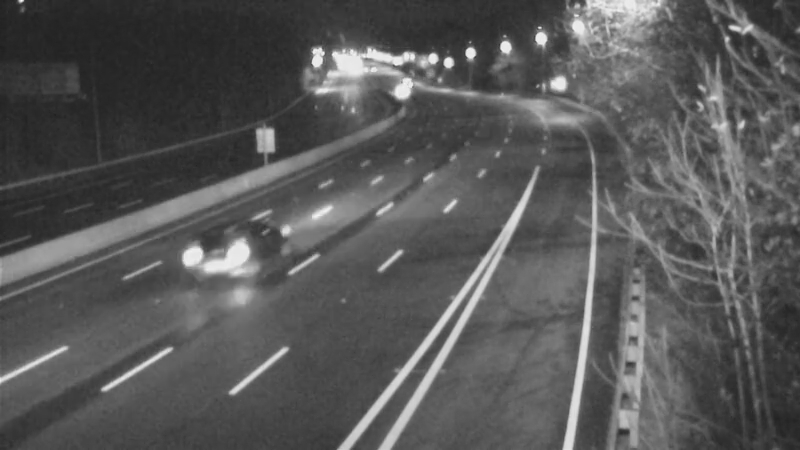vehicle: (186, 212, 266, 292), (381, 59, 431, 109), (380, 68, 430, 118)
